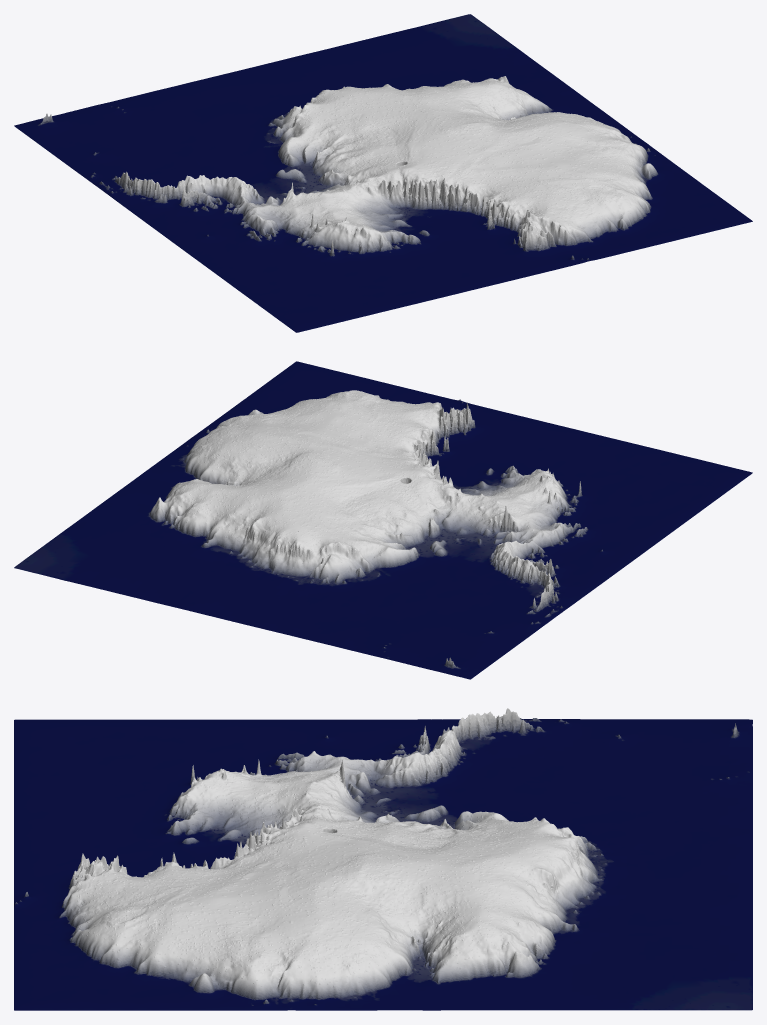
The model's file is Antarctica3.opt.glb.
3 views of the same model, one above another, from view 1: azimuth 30°, elevation 25°; view 2: azimuth 150°, elevation 25°; view 3: azimuth 270°, elevation 25° (orthographic). The views are drawn at different scales.
Parts seen in each view (by area): view 1: Antarctica3_smooth; view 2: Antarctica3_smooth; view 3: Antarctica3_smooth.
Part boxes in pixels (bbox=[...]): Antarctica3_smooth: bbox=[14, 14, 752, 332]; Antarctica3_smooth: bbox=[14, 361, 752, 679]; Antarctica3_smooth: bbox=[14, 708, 752, 1010].
Size of the model in its own units: 0.8995 by 0.0708 by 0.9645.
